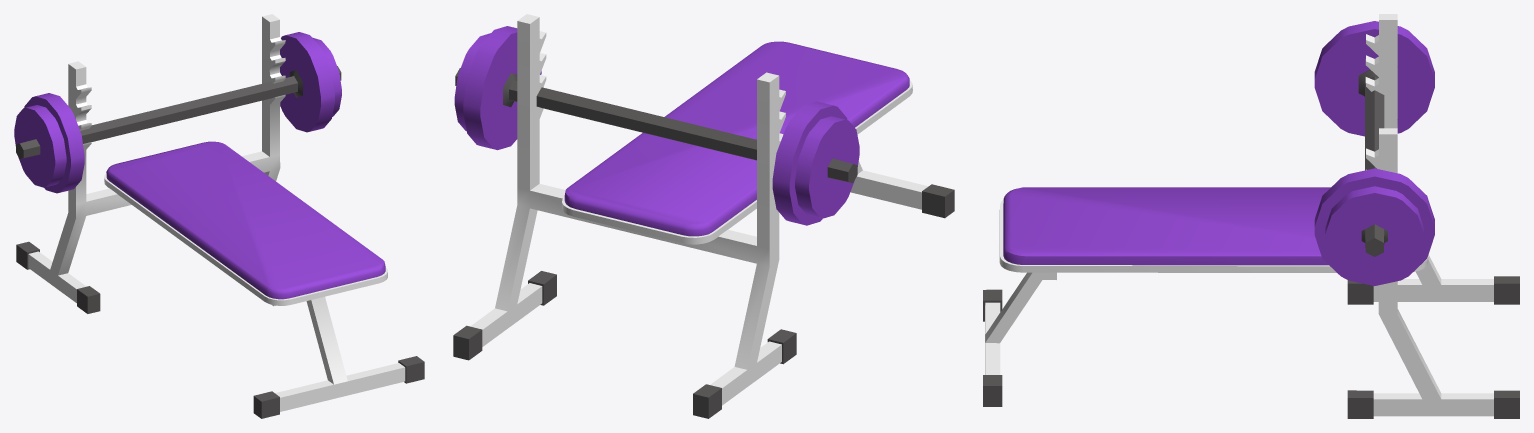
The model's file is Mchn_1.fbx.
3 renders of one model, left to right at view 1: azimuth 30°, elevation 25°; view 2: azimuth 150°, elevation 25°; view 3: azimuth 270°, elevation 25°, orthographic. The views are drawn at different scales.
Parts seen in each view (by area): view 1: Mchn_1; view 2: Mchn_1; view 3: Mchn_1.
Part boxes in pixels (x1=…): Mchn_1: x1=14, y1=14, x2=424, y2=418; Mchn_1: x1=453, y1=14, x2=954, y2=418; Mchn_1: x1=983, y1=14, x2=1519, y2=418.
Size of the model in its own units: 160 by 113 by 194.
